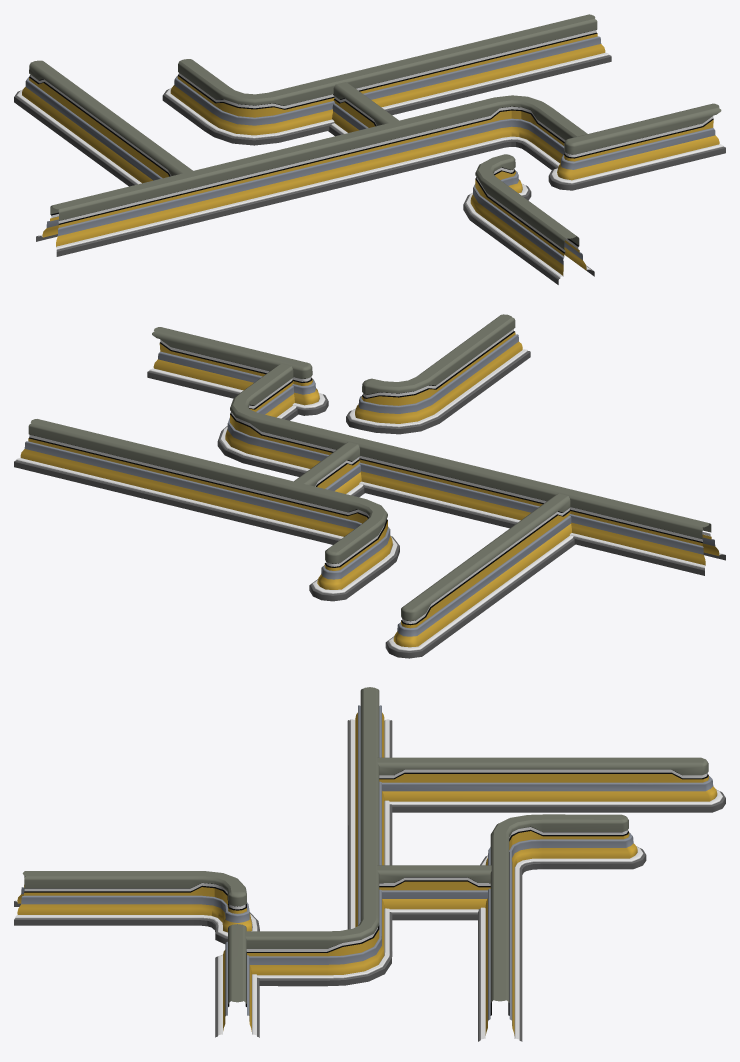
Rendered from Level35_Small_walls.fbx.
3 views of the same model, one above another, from view 1: azimuth 30°, elevation 25°; view 2: azimuth 150°, elevation 25°; view 3: azimuth 270°, elevation 25° (orthographic). The views are drawn at different scales.
Visible parts, largest first — view 1: Small_wall_L55, Small_wall_L53, Small_wallv1_20, Small_wallv1_23, Small_wall_L54, Small_wallv1_31; view 2: Small_wall_L55, Small_wall_L53, Small_wallv1_20, Small_wall_L54, Small_wallv1_23, Small_wallv1_31; view 3: Small_wallv1_20, Small_wall_L55, Small_wall_L53, Small_wall_L54, Small_wallv1_31, Small_wallv1_23.
Part boxes in pixels (<box>): Small_wall_L55: <box>36,95,587,256</box>; Small_wall_L53: <box>162,14,611,145</box>; Small_wallv1_20: <box>14,60,192,186</box>; Small_wallv1_23: <box>548,103,725,190</box>; Small_wall_L54: <box>463,154,594,284</box>; Small_wallv1_31: <box>328,82,398,136</box>; Small_wall_L55: <box>217,363,725,575</box>; Small_wall_L53: <box>14,419,399,601</box>; Small_wallv1_20: <box>385,493,575,658</box>; Small_wall_L54: <box>346,314,530,434</box>; Small_wallv1_23: <box>147,327,328,415</box>; Small_wallv1_31: <box>294,442,364,497</box>; Small_wallv1_20: <box>377,757,725,812</box>; Small_wall_L55: <box>245,687,392,986</box>; Small_wall_L53: <box>478,814,646,1041</box>; Small_wall_L54: <box>14,871,259,943</box>; Small_wallv1_31: <box>377,865,491,920</box>; Small_wallv1_23: <box>215,924,259,1037</box>.
Size of the model in its own units: 591 by 38.48 by 552.
